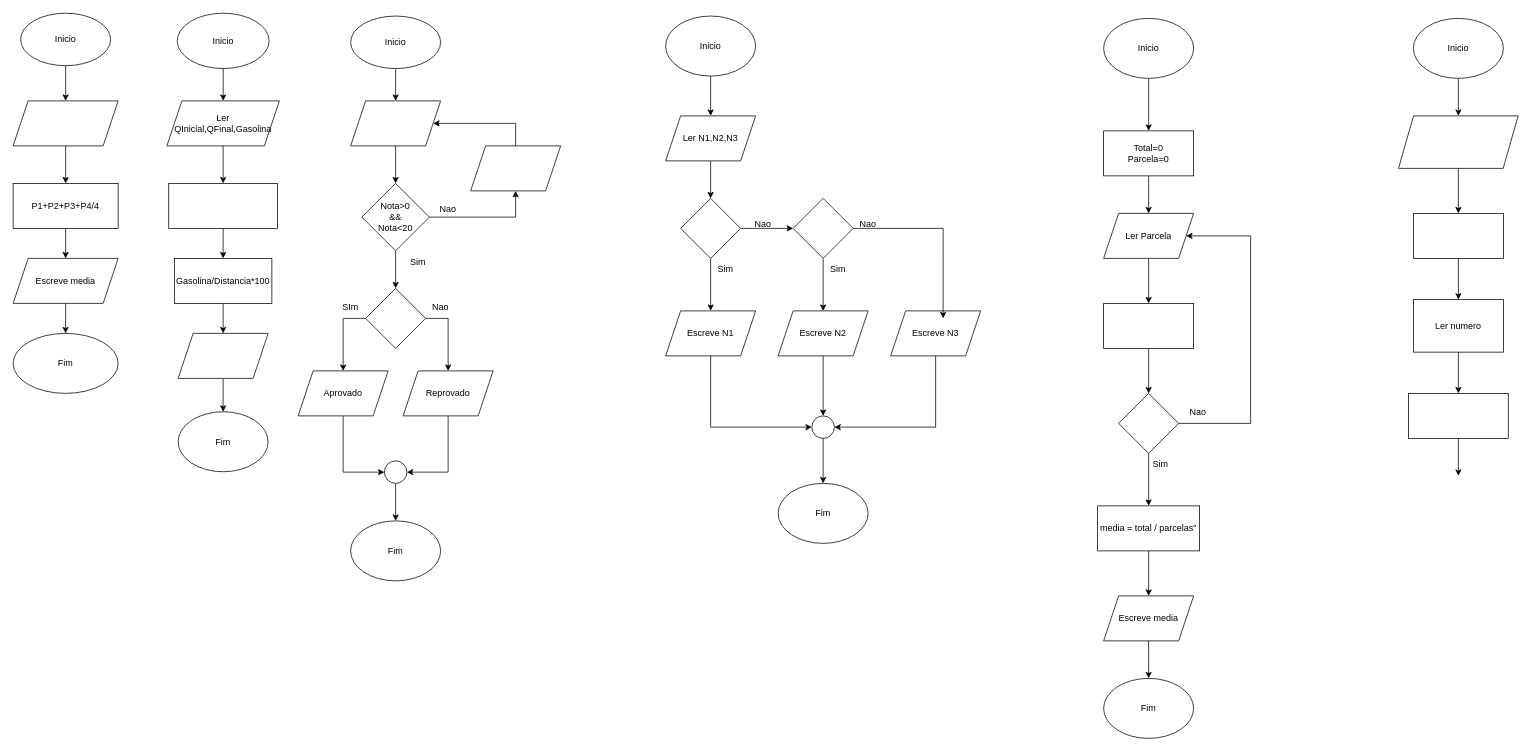
Some shapes in this 1532 by 752 pixel diagram are drawn without their labels. Each missing label, with the centre of its shape:
"Distancia=QInicial.QFinal" belongs at [223,205].
"Escreve comsumo" belongs at [222,355].
"Ler Nota" belongs at [395,123].
"Ler P1,P2,P3,P4" belongs at [65,123].
"N1>N2 && N1>N3" belongs at [710,228].
"N2>N3" belongs at [822,228].
"Nota errada" belongs at [515,168].
"Nota>9,5" belongs at [395,318].
"Quantos Numeros quer Somar?" belongs at [1458,141].
"Total<=1000" belongs at [1148,423].
"Total=0 Contador=0" belongs at [1458,235].
"Total=Total+Numero Contador=Contador+1" belongs at [1458,415].
"Total=Total+Parcela && Parcela=Parcela+1" belongs at [1148,325].
